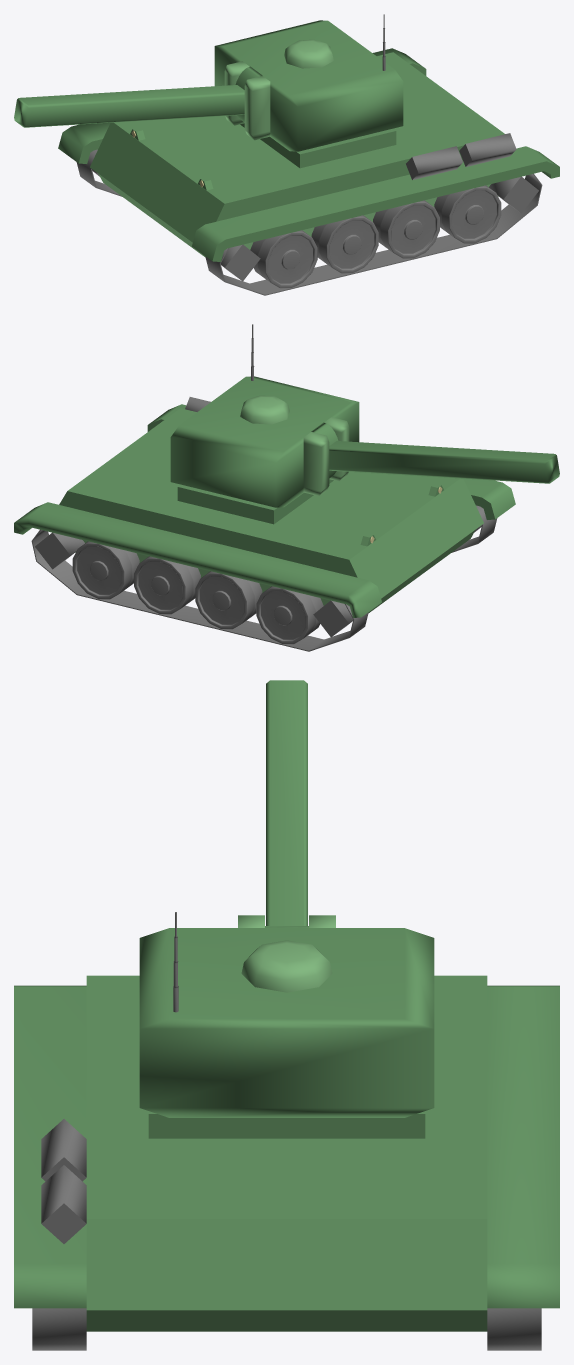
Rendered from Tanks and Armored Vehicle.glb.
3 views of the same model, one above another, from view 1: azimuth 30°, elevation 25°; view 2: azimuth 150°, elevation 25°; view 3: azimuth 270°, elevation 25° (orthographic). The views are drawn at different scales.
Visible parts, largest first — view 1: Root; view 2: Root; view 3: Root.
Boxes of the visible parts, left/top/right/bottom form: Root: left=14, top=14, right=559, bottom=295; Root: left=14, top=324, right=559, bottom=651; Root: left=14, top=680, right=559, bottom=1350.
Bounding box in the file's own units: 10.4 × 4.56 × 6.
